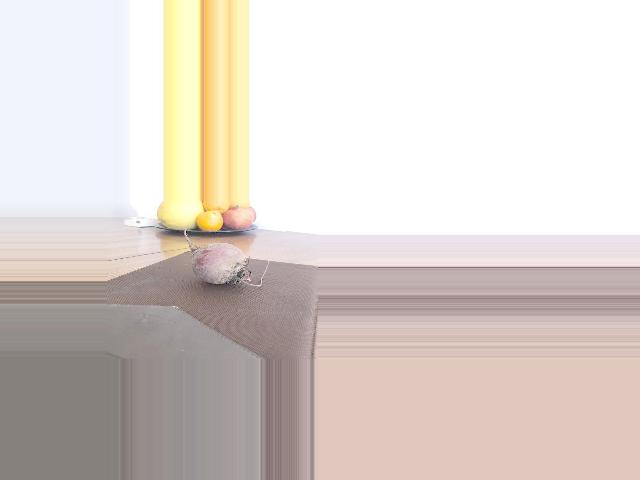beet: (183, 223, 268, 287)
